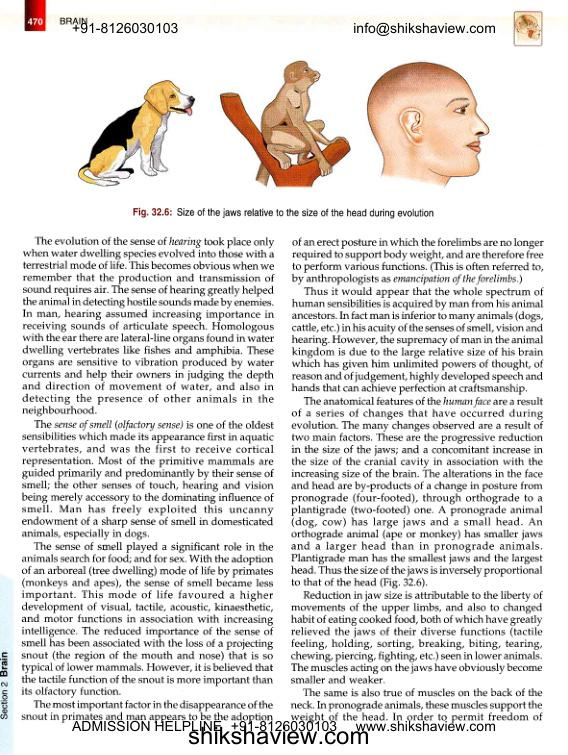caption: (132, 206, 435, 221)
header: (58, 16, 88, 26)
image: (214, 55, 357, 195), (359, 58, 496, 195), (71, 74, 200, 193)
text: (21, 235, 275, 724), (290, 236, 544, 724)
